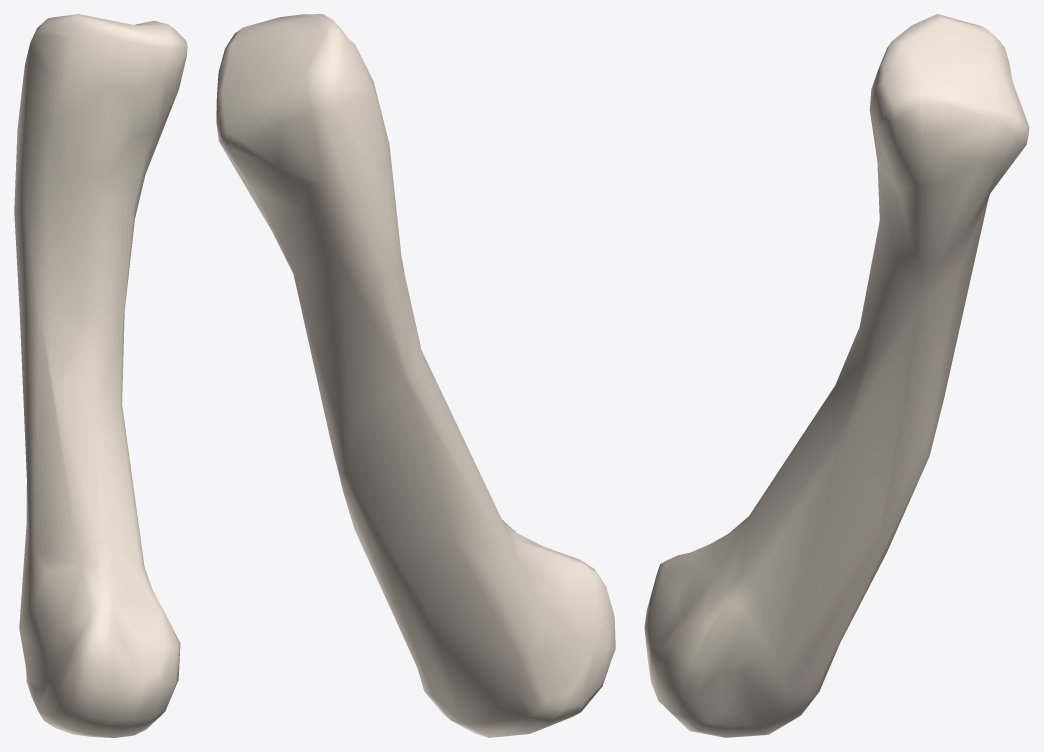
The model's file is left_metacarpal_5.glb.
The picture shows the model from 3 angles, left to right: view 1: azimuth 30°, elevation 25°; view 2: azimuth 150°, elevation 25°; view 3: azimuth 270°, elevation 25°; orthographic projection. The views are drawn at different scales.
Visible parts, largest first — view 1: 5th metacarpal bone.r; view 2: 5th metacarpal bone.r; view 3: 5th metacarpal bone.r.
Boxes of the visible parts, <box> form: 5th metacarpal bone.r: <box>14,14,187,737</box>; 5th metacarpal bone.r: <box>216,14,615,737</box>; 5th metacarpal bone.r: <box>644,14,1029,737</box>.
Bounding box in the file's own units: 0.012 × 0.033 × 0.0154.
